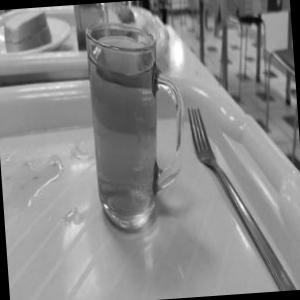bread: (0, 9, 63, 53)
tea: (65, 9, 186, 230)
